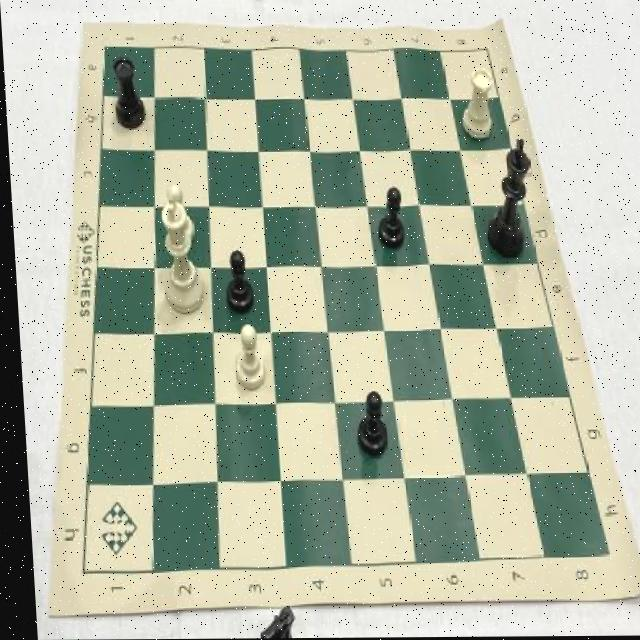black-bishop: (477, 135, 537, 266)
black-knight: (345, 378, 388, 466), (368, 178, 408, 257), (216, 243, 255, 316)
black-queen: (100, 47, 150, 134)
white-bishop: (141, 189, 210, 321)
white-knight: (219, 320, 266, 396), (153, 179, 195, 251)
white-queen: (452, 63, 500, 152)
